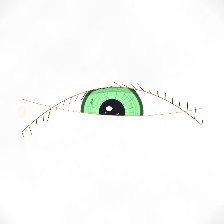pinguecula_lesion: (168, 98, 203, 126)
